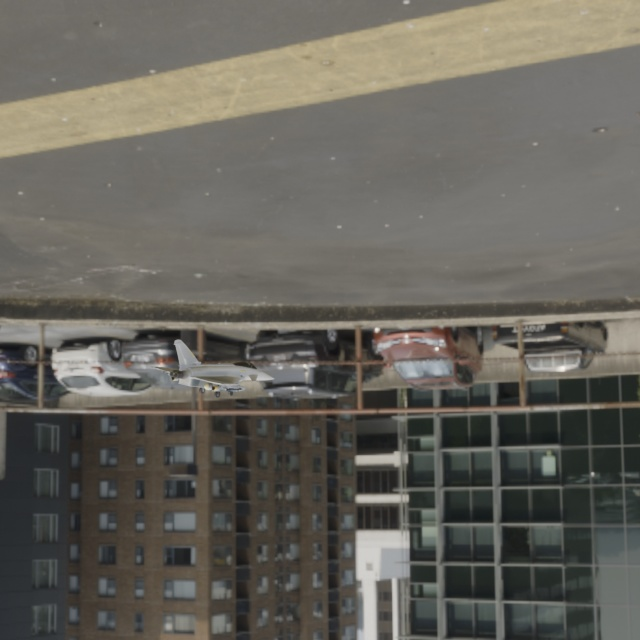eurofighter_typhoon_3d: (132, 332, 317, 406)
